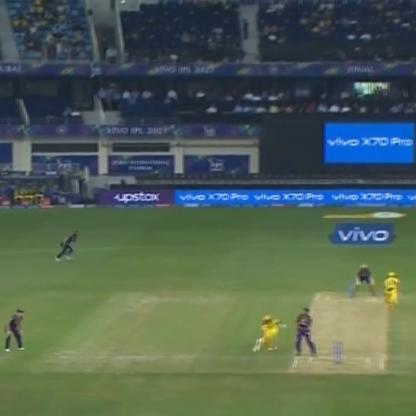pitch: (286, 287, 386, 370)
